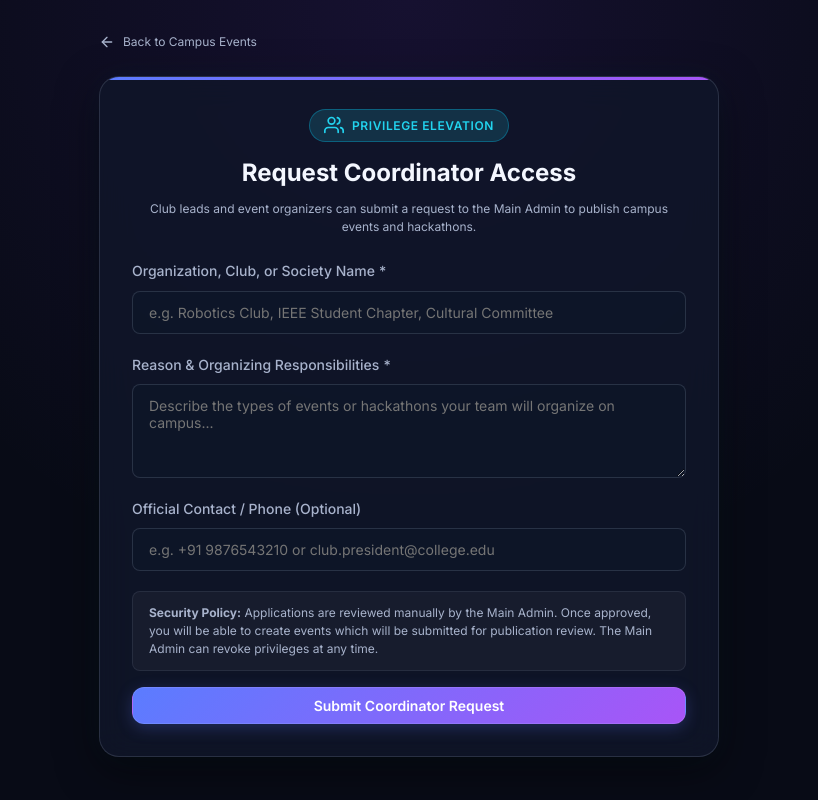
Test: Role-Based Frontend Workflows & Pages › Coordinator Access Request Page (/coordinator/request) › renders request fields and prevents submission of empty form
Expected: the field labelled "Organization, Club, or Society Name *" is shown, [132,291,686,334]
Expected: the text box labelled "Reason & Organizing Responsibilities *" is shown, [132,384,686,478]
Click the button "Submit Coordinator Request": (409, 706) [132,687,686,724]
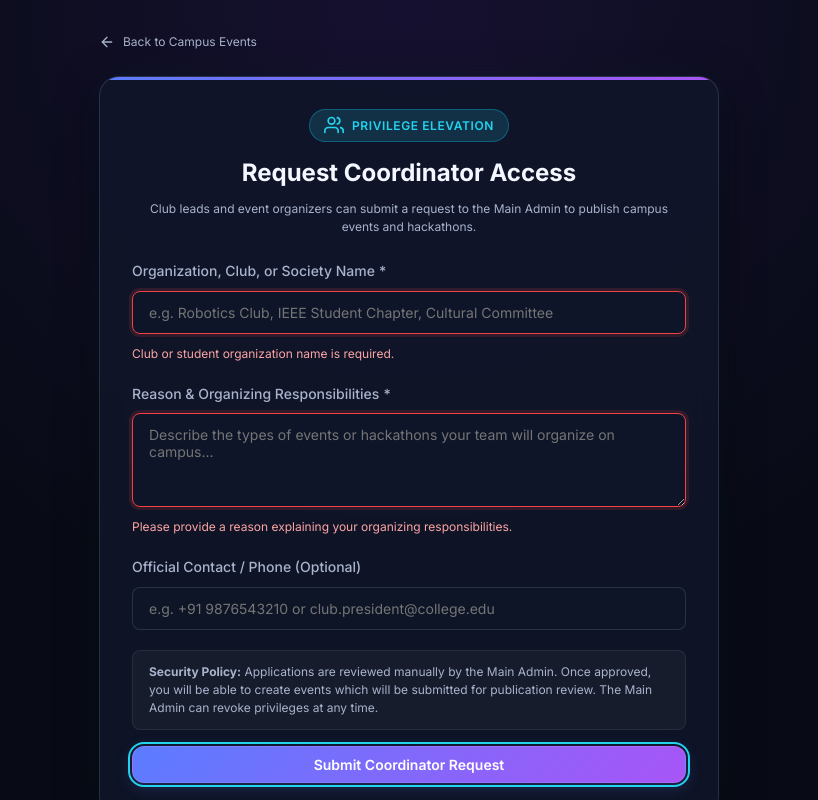
Result: the text "Club or student organization name is required." is shown at [132,346,394,361]
Result: the text "Please provide a reason explaining your organizing responsibilities." is shown at [132,519,512,534]
